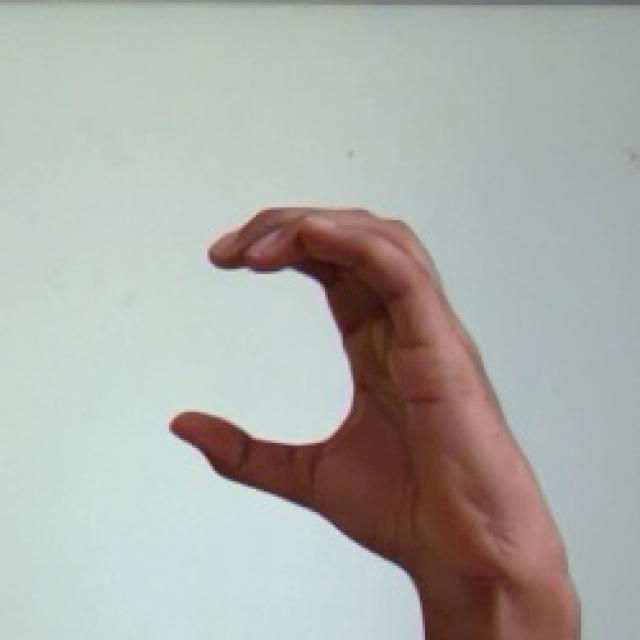Alphabet-C: (172, 207, 581, 640)
